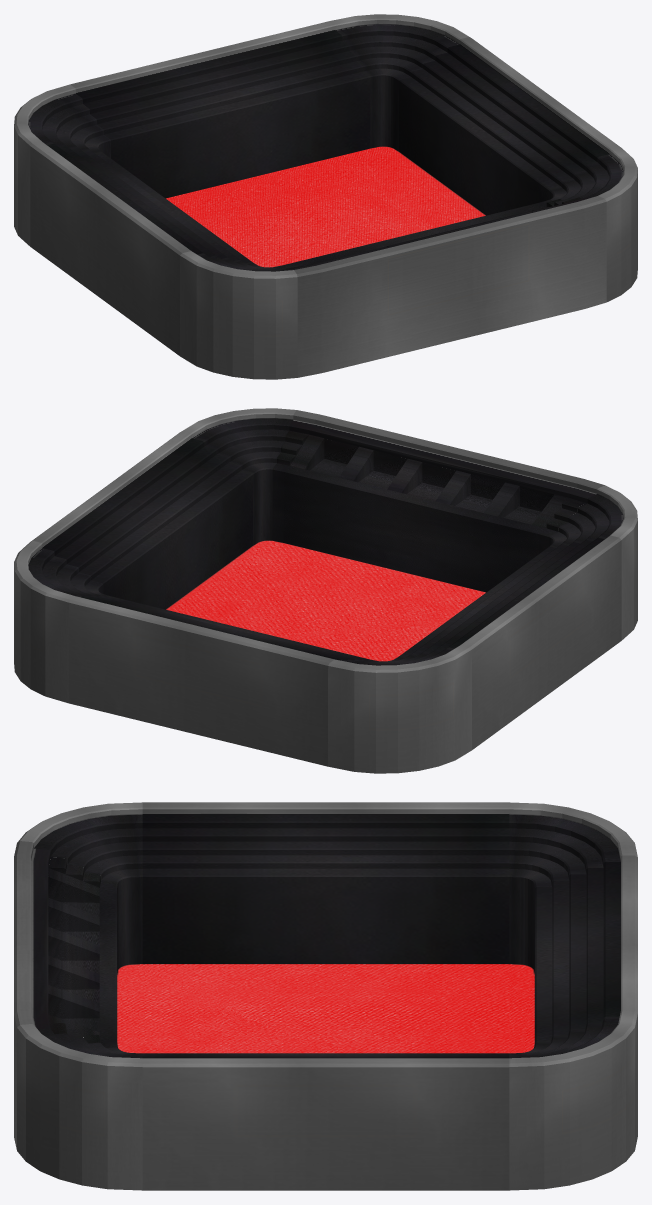
Rendered from DiceBox.fbx.
3 views of the same model, one above another, from view 1: azimuth 30°, elevation 25°; view 2: azimuth 150°, elevation 25°; view 3: azimuth 270°, elevation 25° (orthographic). The views are drawn at different scales.
Visible parts, largest first — view 1: DiceBox; view 2: DiceBox; view 3: DiceBox.
Part boxes in pixels (x1,y1,x2,y2): DiceBox: (14,14,637,379); DiceBox: (14,408,637,773); DiceBox: (14,802,637,1190).
Size of the model in its own units: 900 by 200 by 900.
